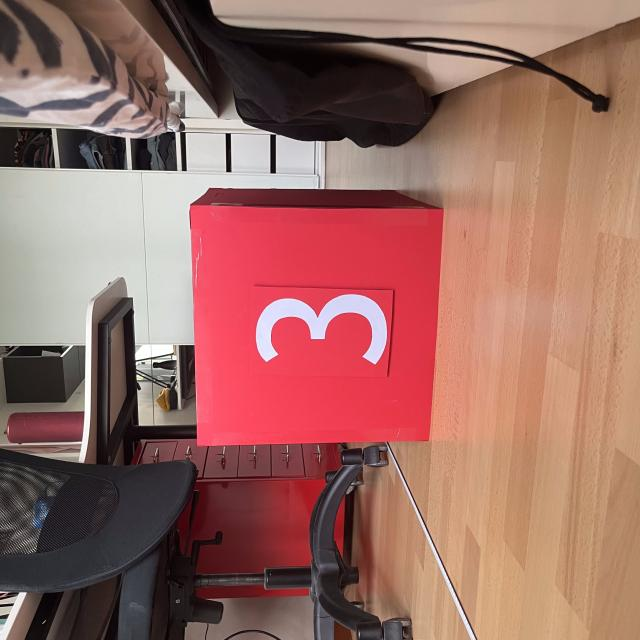box: (184, 182, 447, 448)
